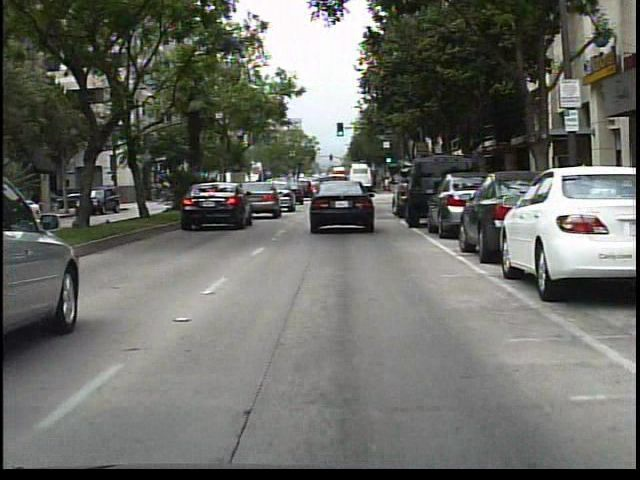person: (568, 155, 591, 220)
